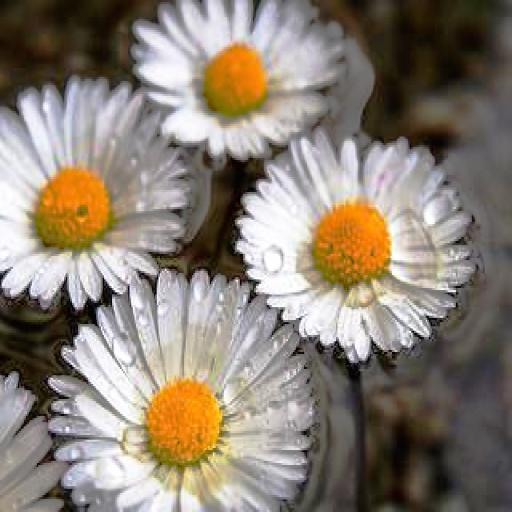daisy: (63, 283, 302, 512), (248, 149, 466, 348)
